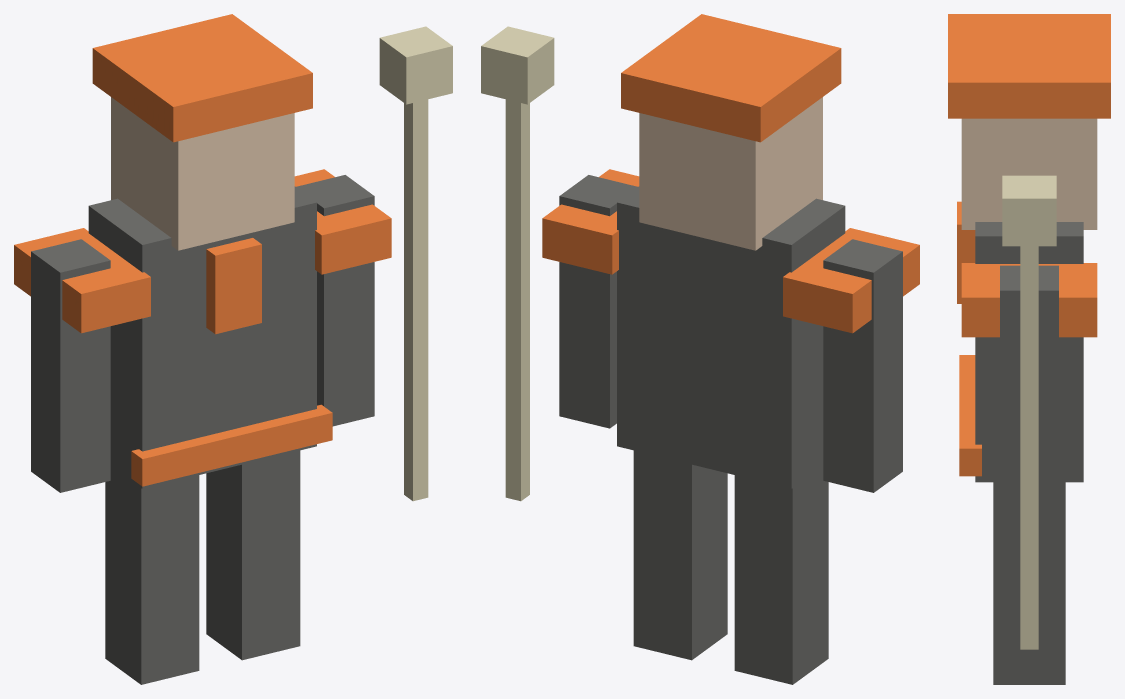
File: 05_selka_frostrelay_smith_under_hammer.glb
3 renders of one model, left to right at view 1: azimuth 30°, elevation 25°; view 2: azimuth 150°, elevation 25°; view 3: azimuth 270°, elevation 25°, orthographic.
Visible parts, largest first — view 1: Selka Frostrelay, Smith under Hammer; view 2: Selka Frostrelay, Smith under Hammer; view 3: Selka Frostrelay, Smith under Hammer.
Boxes of the visible parts, bbox=[...] form: Selka Frostrelay, Smith under Hammer: bbox=[14, 14, 452, 684]; Selka Frostrelay, Smith under Hammer: bbox=[481, 14, 919, 684]; Selka Frostrelay, Smith under Hammer: bbox=[948, 14, 1110, 684].
Bounding box in the file's own units: 1.07 × 1.53 × 0.3779.
